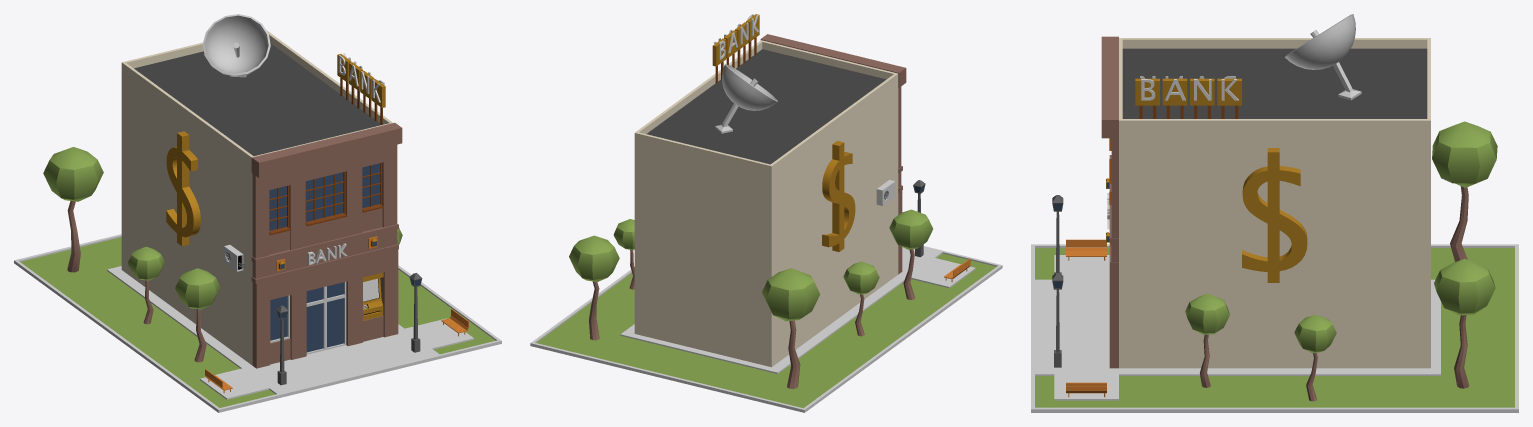
The model's file is banca transilvania.fbx.
The picture shows the model from 3 angles, left to right: view 1: azimuth 30°, elevation 25°; view 2: azimuth 150°, elevation 25°; view 3: azimuth 270°, elevation 25°; orthographic projection. The views are drawn at different scales.
Parts seen in each view (by area): view 1: scena:bank:building, scena:bank:ground, scena:bank:dish, scena:bank:tree1, scena:bank:logo1, scena:bank:tree3, scena:bank:billboard, scena:bank:tree2, scena:bank:logo5, scena:bank:light1, scena:bank:light2; view 2: scena:bank:building, scena:bank:ground, scena:bank:tree1, scena:bank:logo1, scena:bank:tree6, scena:bank:dish, scena:bank:tree3, scena:bank:billboard, scena:bank:tree2, scena:bank:tree5, scena:bank:logo5; view 3: scena:bank:building, scena:bank:ground, scena:bank:logo2, scena:bank:tree1, scena:bank:tree6, scena:bank:billboard, scena:bank:dish, scena:bank:tree4, scena:bank:tree5, scena:bank:logo4, scena:bank:bench2, scena:bank:light2 (+1 smaller).
Part boxes in pixels (x1=…): scena:bank:building: x1=121, y1=30, x2=402, y2=368; scena:bank:ground: x1=14, y1=234, x2=501, y2=412; scena:bank:dish: x1=202, y1=14, x2=270, y2=77; scena:bank:tree1: x1=43, y1=147, x2=103, y2=272; scena:bank:logo1: x1=166, y1=131, x2=200, y2=246; scena:bank:tree3: x1=175, y1=268, x2=220, y2=362; scena:bank:billboard: x1=337, y1=54, x2=385, y2=124; scena:bank:tree2: x1=127, y1=246, x2=164, y2=324; scena:bank:logo5: x1=338, y1=55, x2=380, y2=102; scena:bank:light1: x1=275, y1=305, x2=288, y2=385; scena:bank:light2: x1=409, y1=273, x2=422, y2=352; scena:bank:building: x1=634, y1=34, x2=906, y2=367; scena:bank:ground: x1=530, y1=246, x2=1002, y2=412; scena:bank:tree1: x1=762, y1=268, x2=820, y2=388; scena:bank:logo1: x1=822, y1=140, x2=855, y2=251; scena:bank:tree6: x1=569, y1=235, x2=619, y2=340; scena:bank:dish: x1=715, y1=63, x2=777, y2=133; scena:bank:tree3: x1=889, y1=209, x2=932, y2=299; scena:bank:billboard: x1=712, y1=14, x2=759, y2=83; scena:bank:tree2: x1=843, y1=261, x2=879, y2=336; scena:bank:tree5: x1=613, y1=219, x2=634, y2=289; scena:bank:logo5: x1=719, y1=15, x2=759, y2=60; scena:bank:building: x1=1101, y1=36, x2=1430, y2=368; scena:bank:ground: x1=1031, y1=244, x2=1518, y2=412; scena:bank:logo2: x1=1242, y1=148, x2=1307, y2=282; scena:bank:tree1: x1=1432, y1=121, x2=1497, y2=261; scena:bank:tree6: x1=1434, y1=258, x2=1495, y2=388; scena:bank:billboard: x1=1135, y1=78, x2=1241, y2=118; scena:bank:dish: x1=1285, y1=14, x2=1361, y2=100; scena:bank:tree4: x1=1185, y1=293, x2=1229, y2=387; scena:bank:tree5: x1=1294, y1=315, x2=1336, y2=401; scena:bank:logo4: x1=1141, y1=79, x2=1238, y2=100; scena:bank:bench2: x1=1066, y1=239, x2=1106, y2=260; scena:bank:light2: x1=1052, y1=273, x2=1063, y2=367.
Size of the model in its own units: 20 by 17.92 by 25.
